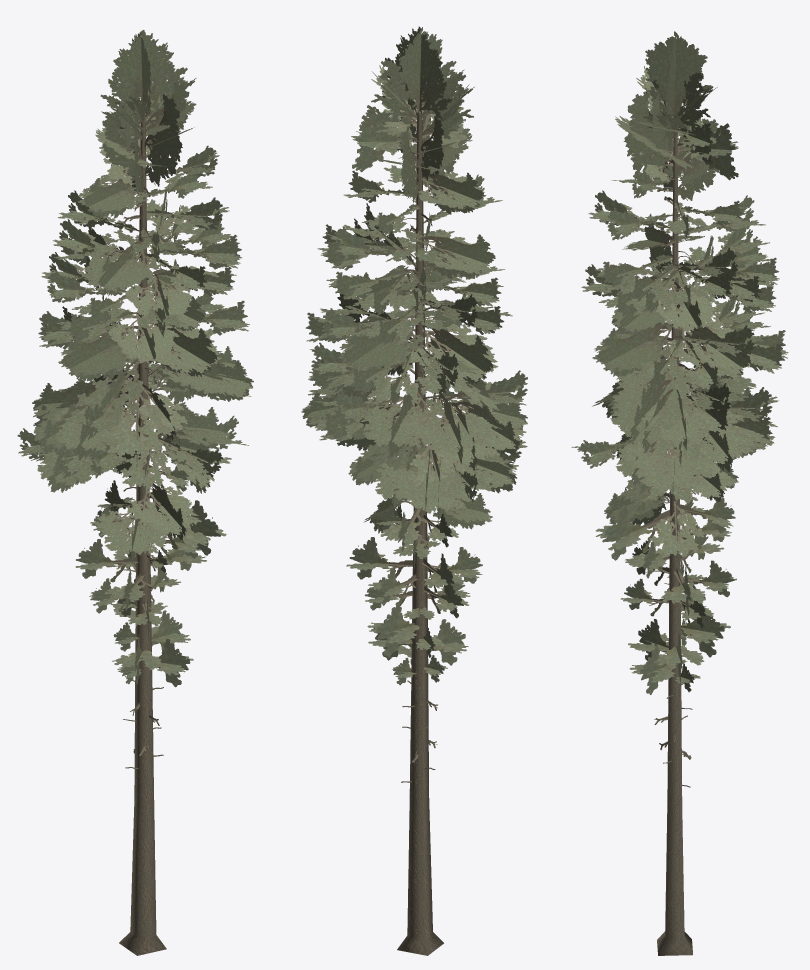
File: PseudotsugaMenziesii.glb
3 views of the same model, side by side, from view 1: azimuth 30°, elevation 25°; view 2: azimuth 150°, elevation 25°; view 3: azimuth 270°, elevation 25° (orthographic).
Visible parts, largest first — view 1: Douglas_Fir__Realistic_LOD3; view 2: Douglas_Fir__Realistic_LOD3; view 3: Douglas_Fir__Realistic_LOD3.
Boxes of the visible parts, box(x1,y1,x2,y2) form: Douglas_Fir__Realistic_LOD3: box(17, 30, 253, 955); Douglas_Fir__Realistic_LOD3: box(301, 26, 527, 955); Douglas_Fir__Realistic_LOD3: box(571, 31, 788, 955).
Size of the model in its own units: 16.57 by 65.59 by 14.81.
1 material, 1 textured.
